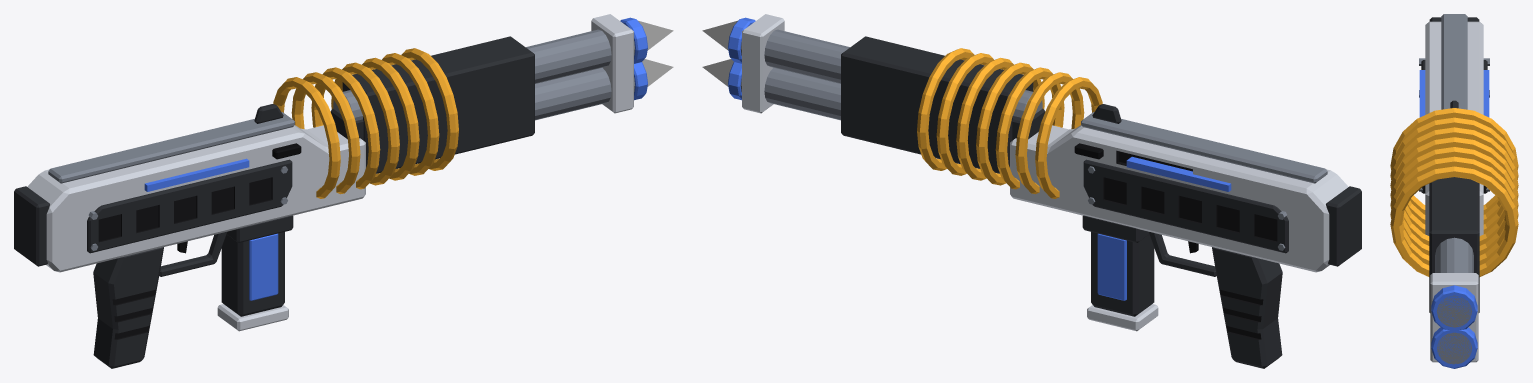
The model's file is plasma_shotgun42.obj.
3 views of the same model, side by side, from view 1: azimuth 30°, elevation 25°; view 2: azimuth 150°, elevation 25°; view 3: azimuth 270°, elevation 25° (orthographic).
Parts seen in each view (by area): view 1: body, barrel, mag; view 2: body, barrel, mag; view 3: body, barrel.
Part boxes in pixels (left/top/right/bottom): body: left=14, top=48, right=458, bottom=368; barrel: left=333, top=14, right=647, bottom=173; mag: left=217, top=232, right=288, bottom=331; body: left=917, top=48, right=1361, bottom=368; barrel: left=728, top=14, right=1042, bottom=173; mag: left=1087, top=232, right=1158, bottom=331; body: left=1390, top=14, right=1518, bottom=276; barrel: left=1429, top=177, right=1479, bottom=368.
Bounding box in the file's own units: 0.5488 × 0.1882 × 0.0924.
